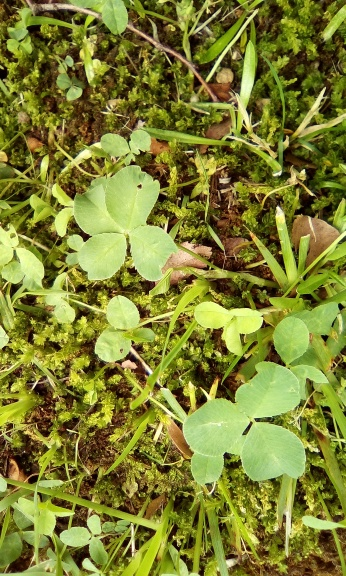4leaf: (73, 164, 178, 283)
